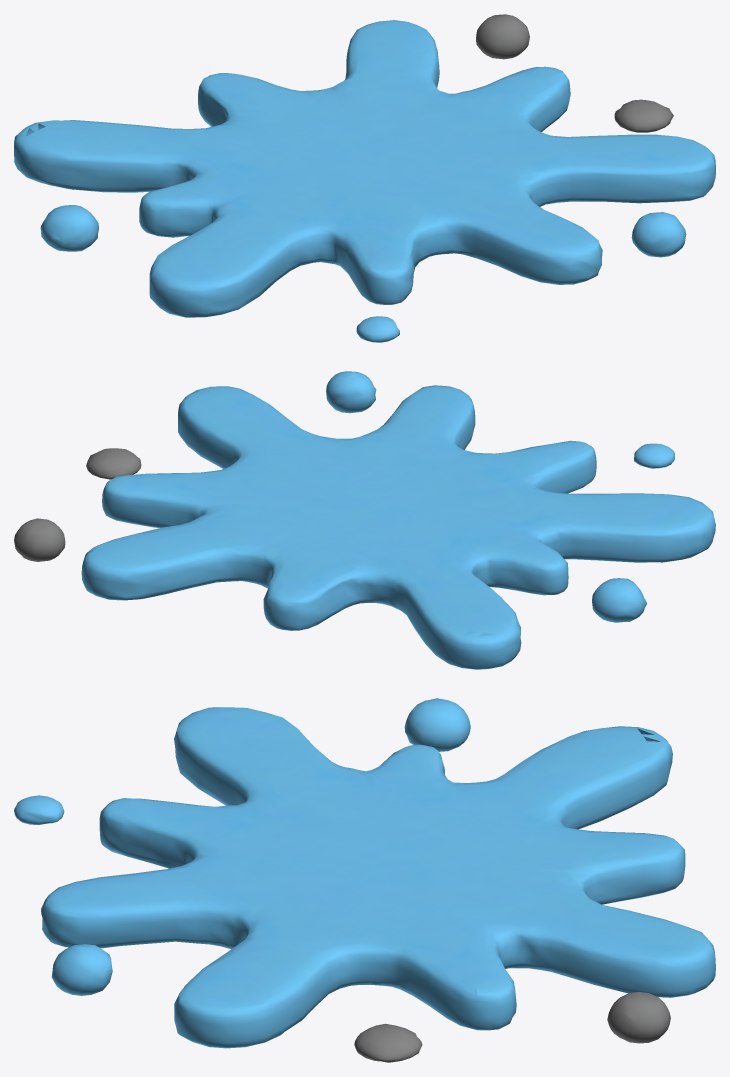
Rendered from splat.glb.
3 views of the same model, one above another, from view 1: azimuth 30°, elevation 25°; view 2: azimuth 150°, elevation 25°; view 3: azimuth 270°, elevation 25° (orthographic). The views are drawn at different scales.
Parts seen in each view (by area): view 1: geometry_0; view 2: geometry_0; view 3: geometry_0.
Part boxes in pixels (bbox=[...]): geometry_0: bbox=[14, 14, 715, 342]; geometry_0: bbox=[14, 371, 715, 669]; geometry_0: bbox=[14, 698, 715, 1062].
Bounding box in the file's own units: 0.9482 × 0.0562 × 0.8291.
1 material, 1 textured.
